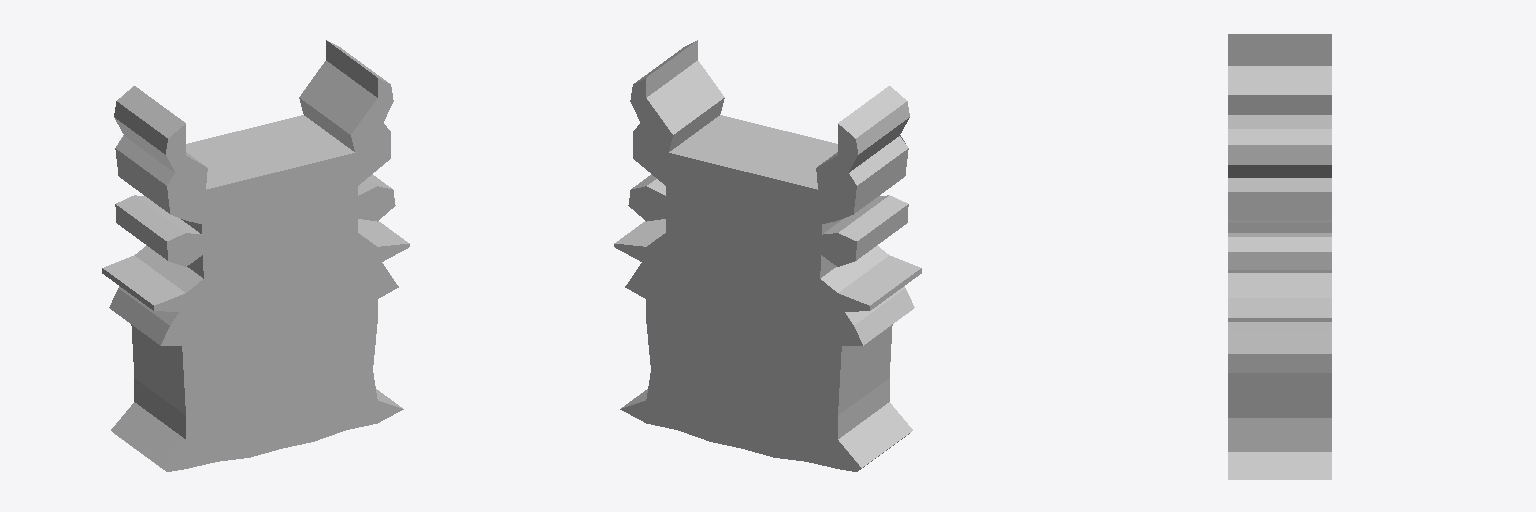
File: goatwizard.obj
The picture shows the model from 3 angles: view 1: azimuth 30°, elevation 25°; view 2: azimuth 150°, elevation 25°; view 3: azimuth 270°, elevation 25°; orthographic projection.
Parts seen in each view (by area): view 1: goatwizard; view 2: goatwizard; view 3: goatwizard.
Part boxes in pixels (x1,y1,x2,y2): goatwizard: (102,40,409,471); goatwizard: (614,40,921,471); goatwizard: (1228,34,1331,479).
Bounding box in the file's own units: 0.5705 × 0.7469 × 0.2.